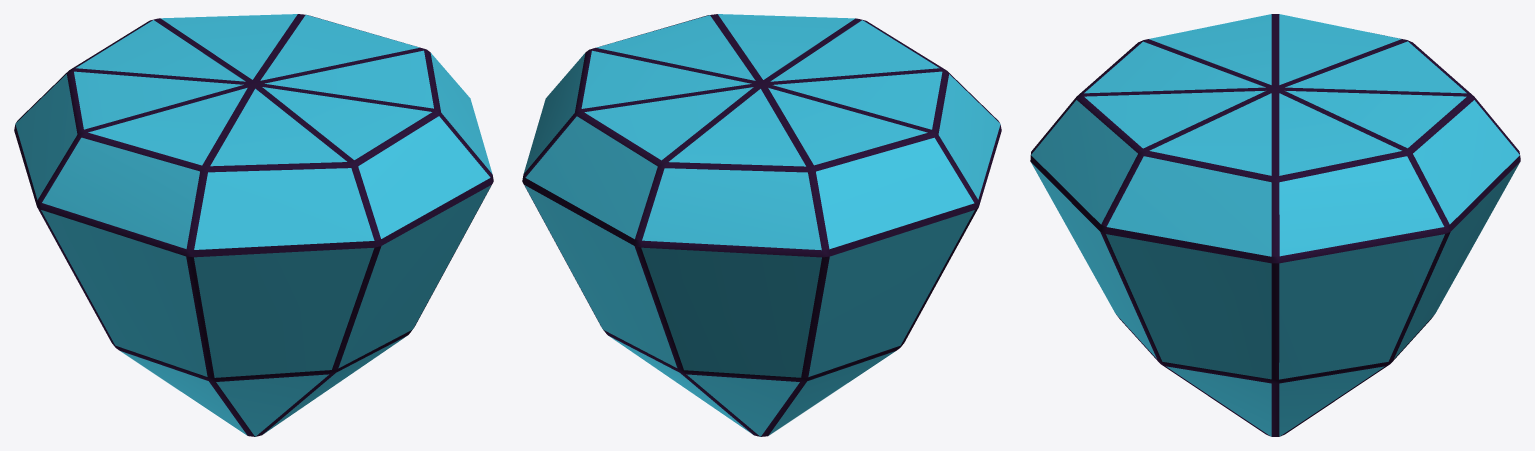
Rendered from emerald_export_2.fbx.
3 renders of one model, left to right at view 1: azimuth 30°, elevation 25°; view 2: azimuth 150°, elevation 25°; view 3: azimuth 270°, elevation 25°, orthographic.
Parts seen in each view (by area): view 1: pCube6; view 2: pCube6; view 3: pCube6.
Part boxes in pixels (<box>): pCube6: <box>14,14,493,436</box>; pCube6: <box>522,14,1001,436</box>; pCube6: <box>1030,14,1520,436</box>.
Size of the model in its own units: 1.4 by 1.08 by 1.4.
